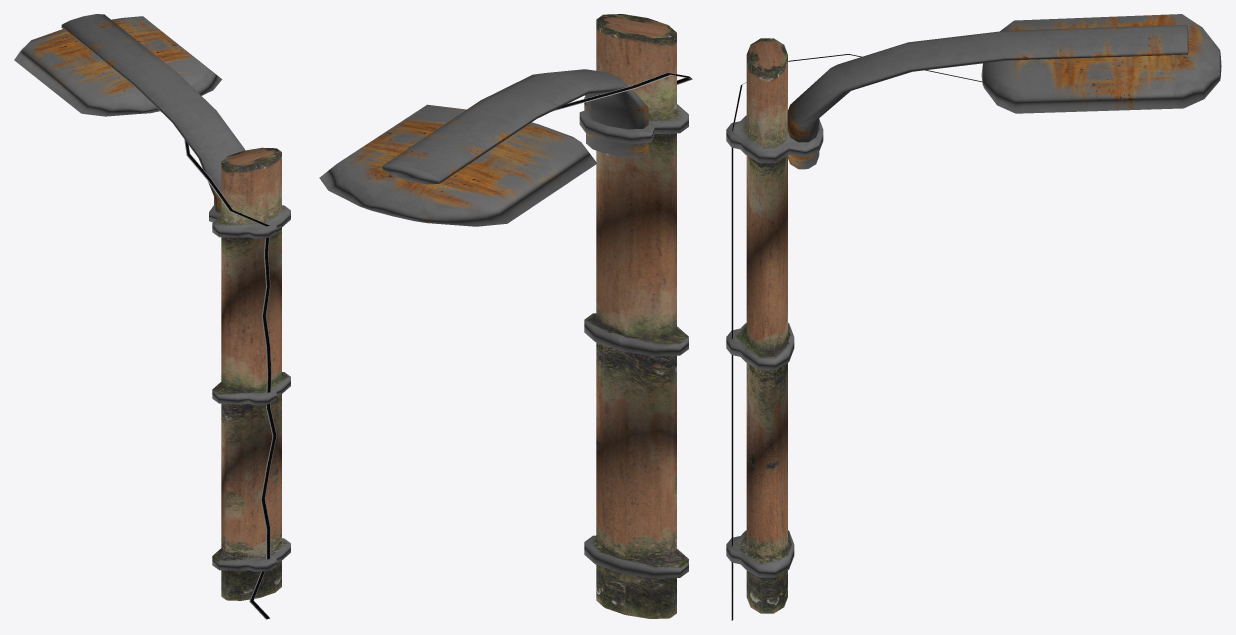
File: bec.obj
The picture shows the model from 3 angles, left to right: view 1: azimuth 30°, elevation 25°; view 2: azimuth 150°, elevation 25°; view 3: azimuth 270°, elevation 25°; orthographic projection. The views are drawn at different scales.
Visible parts, largest first — view 1: Cylinder_Cylinder.001; view 2: Cylinder_Cylinder.001; view 3: Cylinder_Cylinder.001.
Boxes of the visible parts, box(x1,y1,x2,y2) form: Cylinder_Cylinder.001: box(14, 14, 290, 619); Cylinder_Cylinder.001: box(319, 14, 692, 618); Cylinder_Cylinder.001: box(726, 14, 1221, 620).
Size of the model in its own units: 1.62 by 5.18 by 3.96.
Materials: 1 (1 with a texture image).
